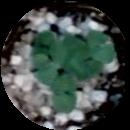Basil: (53, 40, 86, 60), (91, 35, 114, 63), (56, 80, 74, 112), (35, 32, 50, 65), (69, 59, 89, 79), (39, 63, 58, 82)
